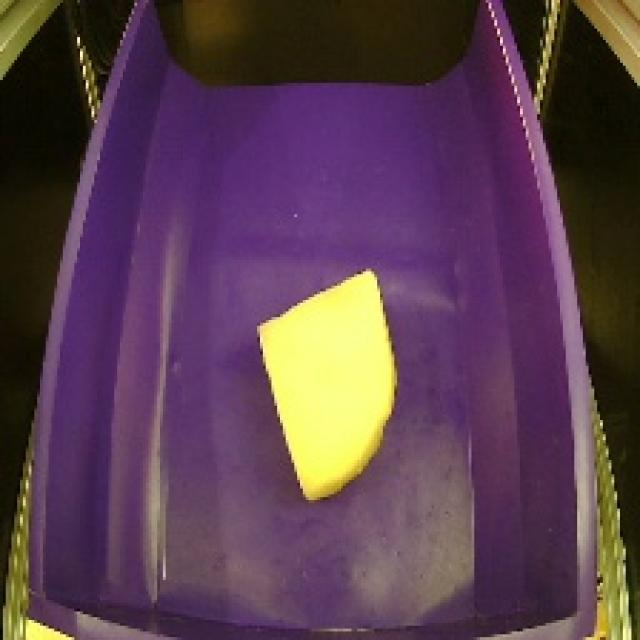potato: (250, 260, 408, 509)
